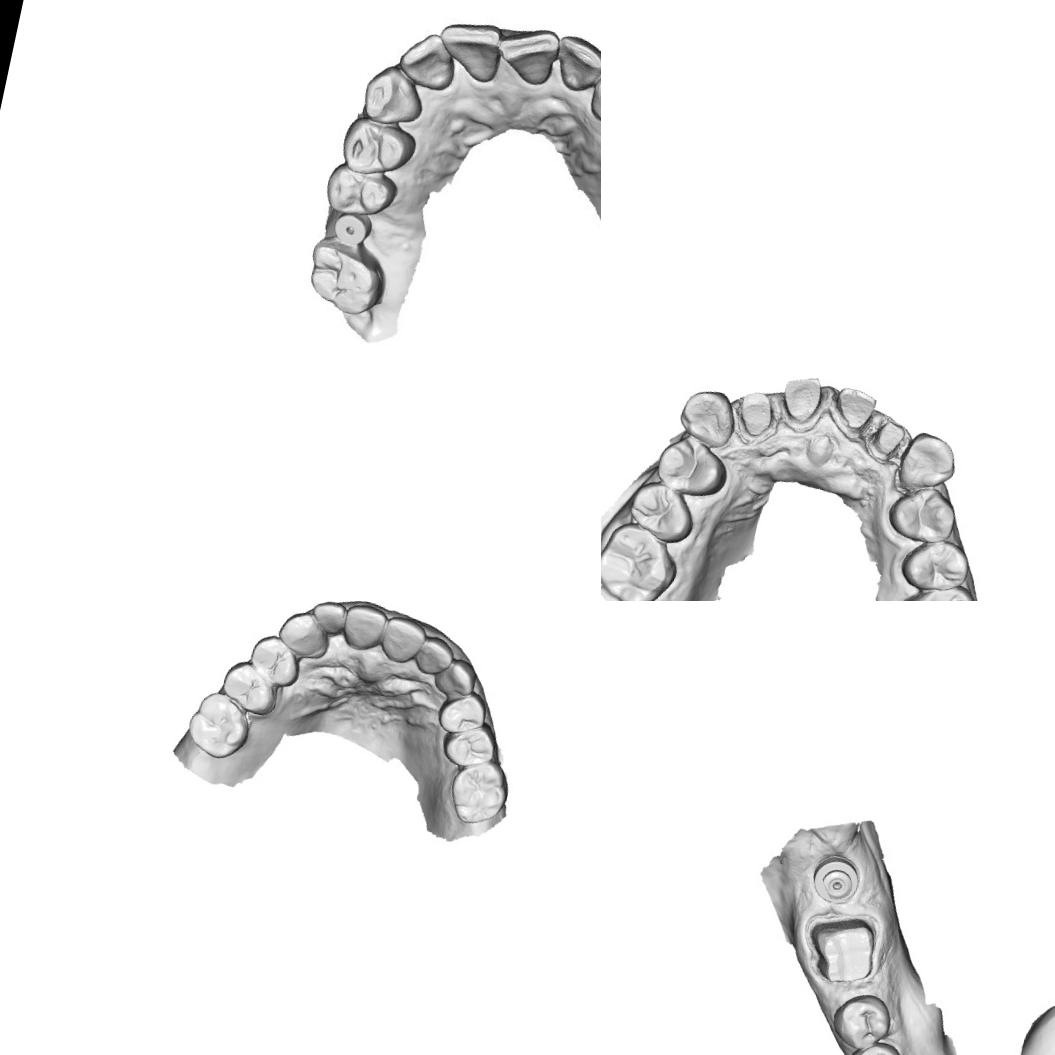canine: (355, 58, 431, 130), (892, 427, 961, 500), (674, 384, 742, 452), (273, 606, 334, 663), (430, 653, 480, 702), (585, 60, 601, 129)
crown: (800, 908, 885, 992), (775, 369, 827, 430), (829, 381, 880, 438), (733, 388, 778, 442), (864, 415, 909, 466)
implant: (806, 848, 865, 908), (327, 202, 375, 252)
incisor: (392, 28, 464, 100), (435, 20, 505, 94), (493, 24, 562, 92), (550, 33, 601, 93), (379, 613, 430, 668), (338, 601, 389, 655), (411, 632, 458, 679), (306, 601, 349, 638)
molar: (300, 236, 393, 324), (601, 515, 685, 601), (443, 752, 519, 834), (182, 686, 260, 764), (886, 572, 984, 601)
premolar: (334, 114, 420, 184), (652, 430, 734, 503), (321, 157, 407, 223), (623, 476, 701, 548), (882, 479, 962, 549), (896, 532, 974, 599), (826, 987, 897, 1055), (216, 655, 284, 719), (244, 630, 306, 692), (438, 712, 501, 772), (434, 685, 491, 740), (841, 1032, 907, 1055)
